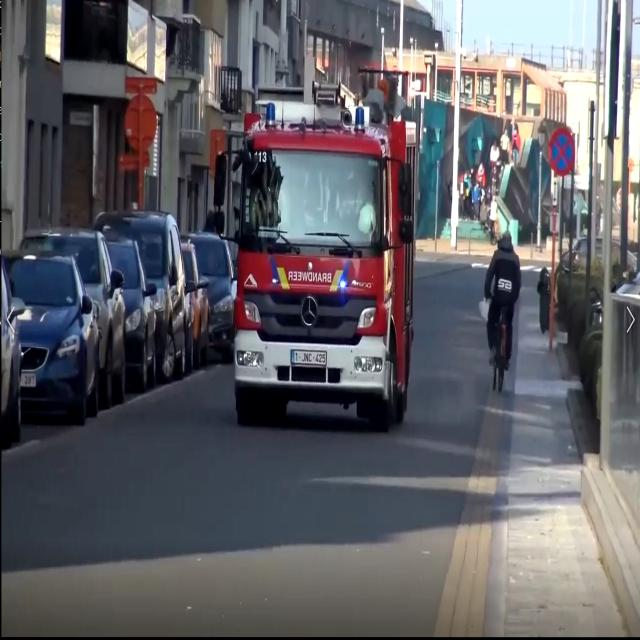emergency: (230, 76, 416, 436)
